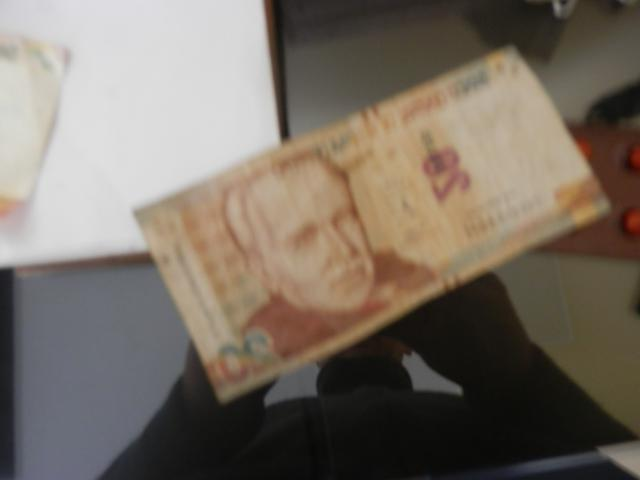B20: (134, 47, 607, 402)
